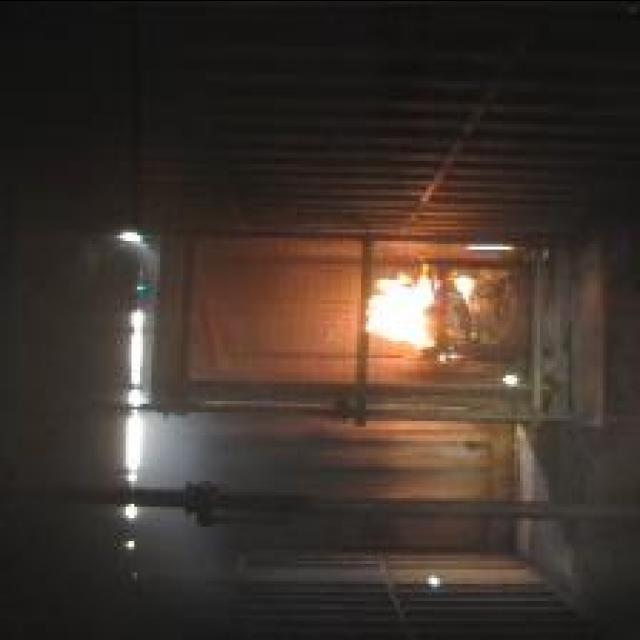Fire: (364, 270, 436, 350)
